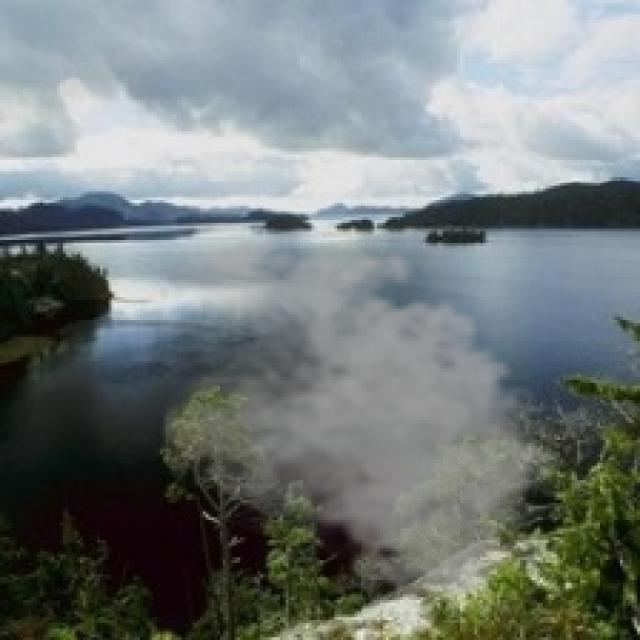Smoke: (160, 226, 566, 603)
